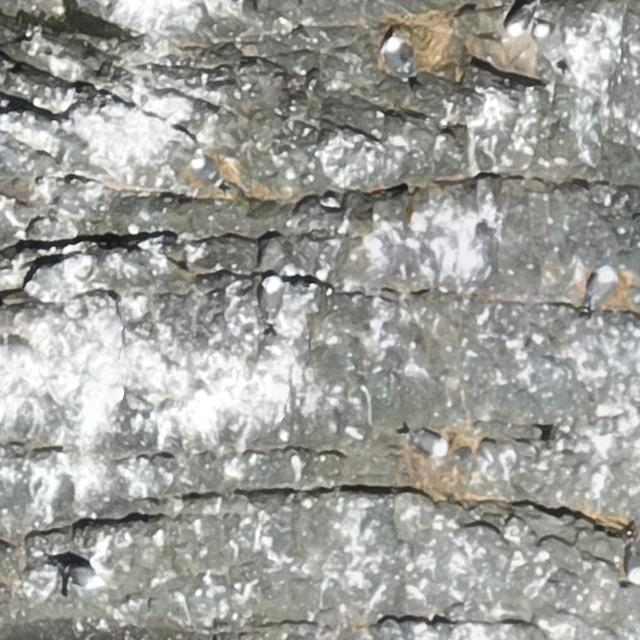umineko: (383, 28, 418, 78), (60, 557, 104, 591), (191, 154, 223, 193), (590, 270, 614, 305), (262, 279, 282, 318), (412, 433, 446, 455), (626, 545, 639, 581)
